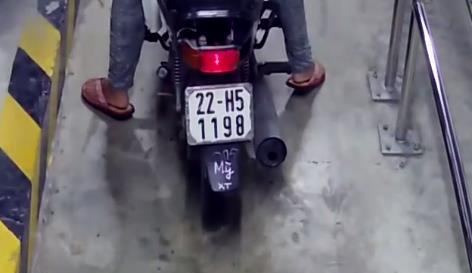lisence: (185, 82, 255, 146)
